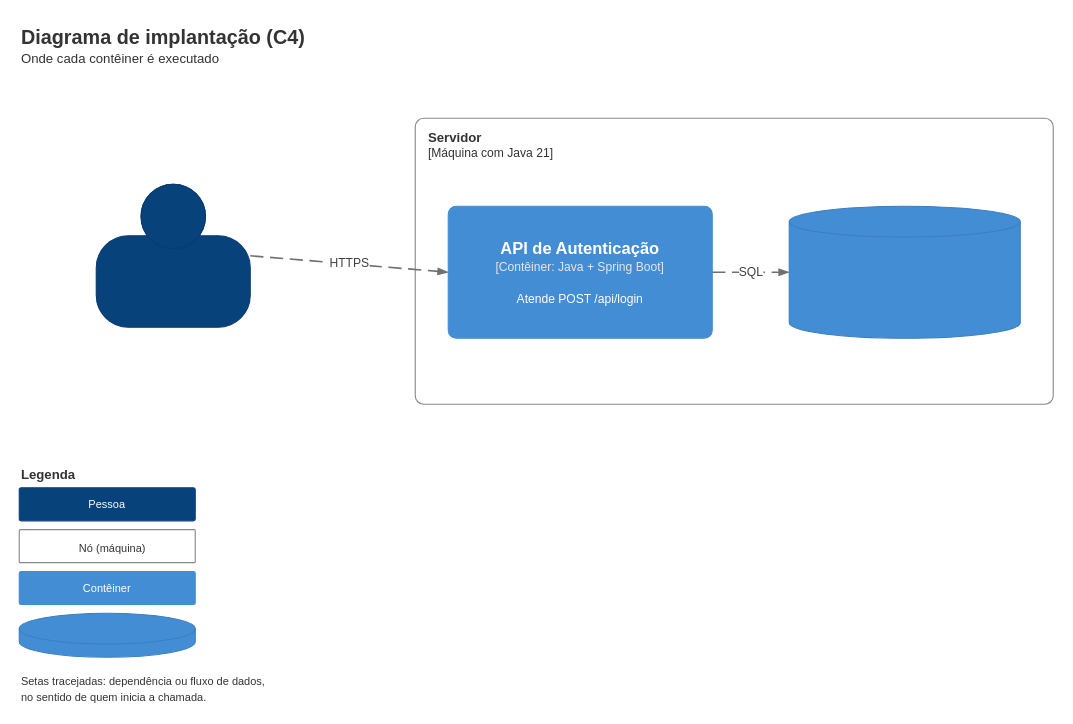
The diagram is 1073 pixels wide and 724 high, and some of its shapes have lost their labels. The shapes that lost their labels are listed below. From the top down, each one's box as (x1, y1, x2, y2) in pixels, then its label:
(95, 183, 250, 327): Usuário [Pessoa]
(788, 205, 1020, 338): Banco de Dados [Contêiner: SQLite] Arquivo local no servidor
(18, 612, 195, 657): Banco de dados
